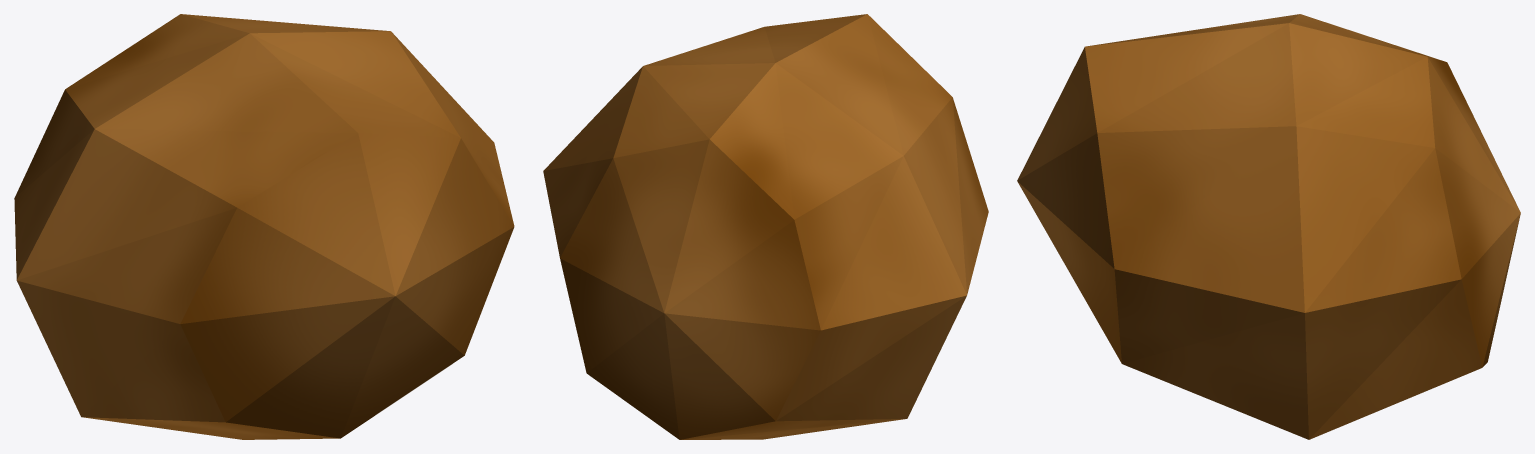
The model's file is Kruimels.FBX.
3 views of the same model, side by side, from view 1: azimuth 30°, elevation 25°; view 2: azimuth 150°, elevation 25°; view 3: azimuth 270°, elevation 25° (orthographic). The views are drawn at different scales.
Parts seen in each view (by area): view 1: Kruimel001; view 2: Kruimel001; view 3: Kruimel001.
Part boxes in pixels (box(x1,y1,x2,y2)): Kruimel001: box(14, 14, 514, 439); Kruimel001: box(543, 14, 988, 439); Kruimel001: box(1017, 14, 1520, 439).
Bounding box in the file's own units: 24.66 × 20.54 × 23.37.
1 material, 1 textured.
